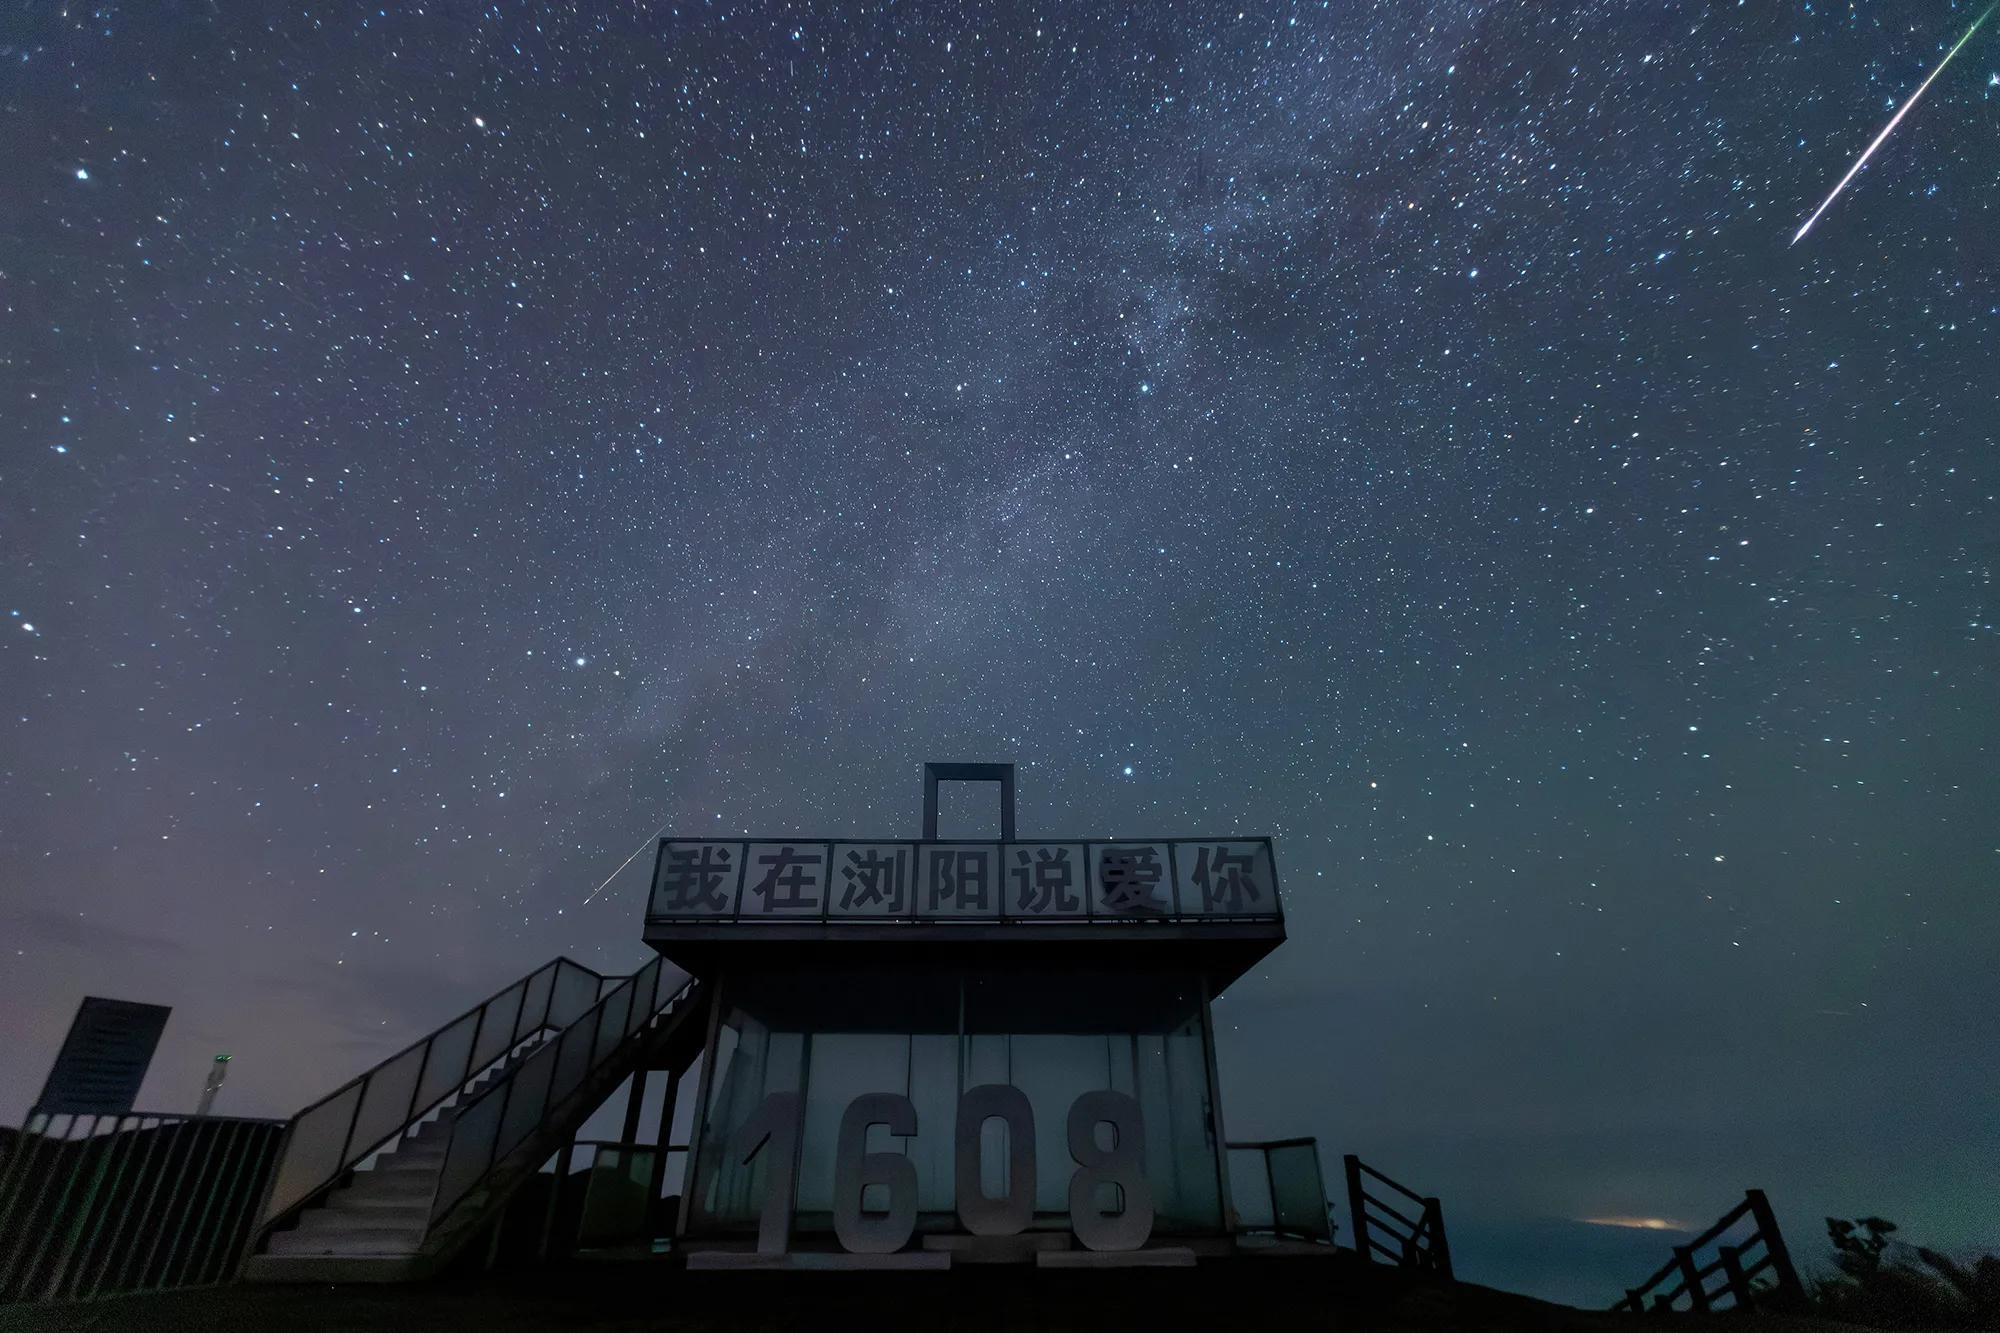meteorite: (1771, 1, 1999, 260), (549, 733, 678, 934)
